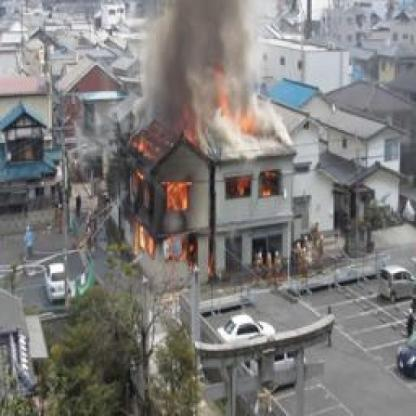fire: (178, 54, 263, 150), (131, 143, 195, 264), (226, 169, 252, 200)
